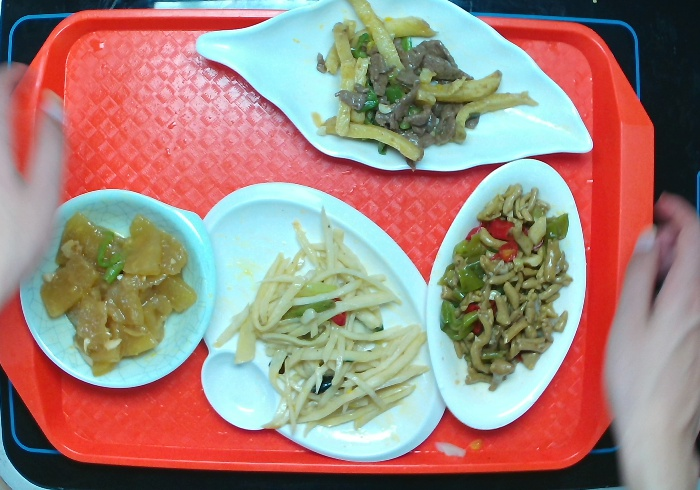RJxy-Bai_Se_Tuo_Yuan: (419, 157, 590, 436)
RJxy-Shu_Ye_Pan: (191, 1, 600, 180)
RJxy-Xiao_Jiao_Yuan_Wan: (15, 186, 218, 392)
RJxy-Zhan_Liao_Pan: (182, 174, 451, 465)
